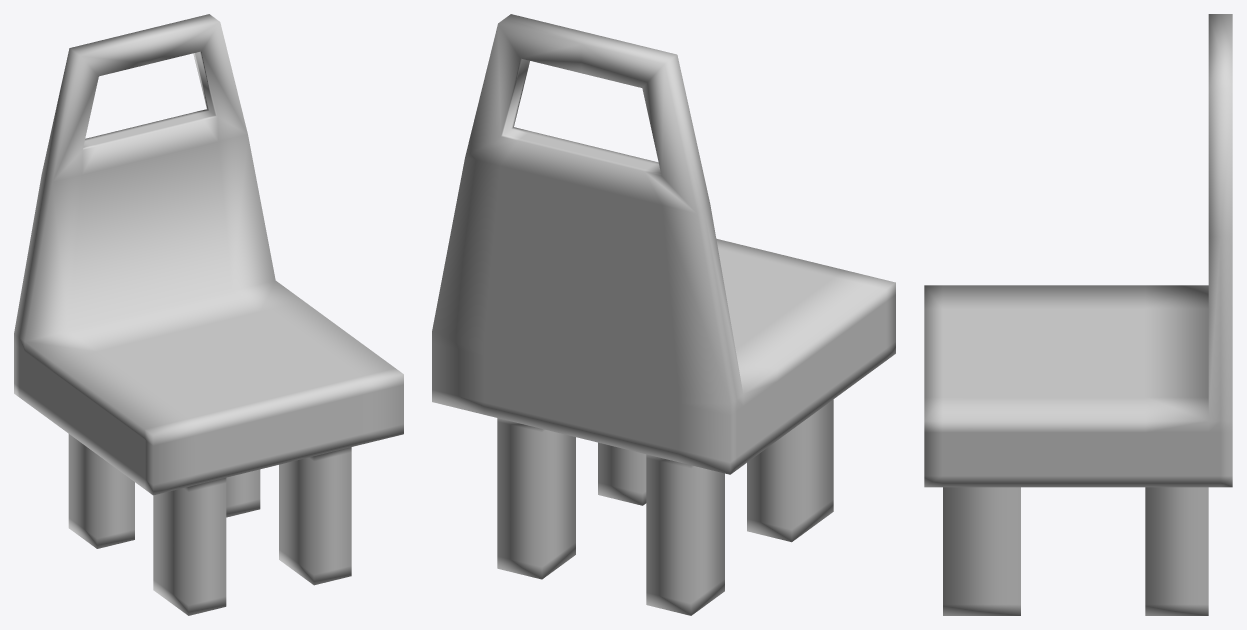
The model's file is KS_DIning_Chair.fbx.
The picture shows the model from 3 angles, left to right: view 1: azimuth 30°, elevation 25°; view 2: azimuth 150°, elevation 25°; view 3: azimuth 270°, elevation 25°; orthographic projection. The views are drawn at different scales.
Visible parts, largest first — view 1: KS_Dining_Chair; view 2: KS_Dining_Chair; view 3: KS_Dining_Chair.
Part boxes in pixels (x1,y1,x2,y2): KS_Dining_Chair: [14, 14, 403, 615]; KS_Dining_Chair: [432, 14, 895, 615]; KS_Dining_Chair: [924, 14, 1232, 615].
Size of the model in its own units: 71.61 by 128 by 68.81.
